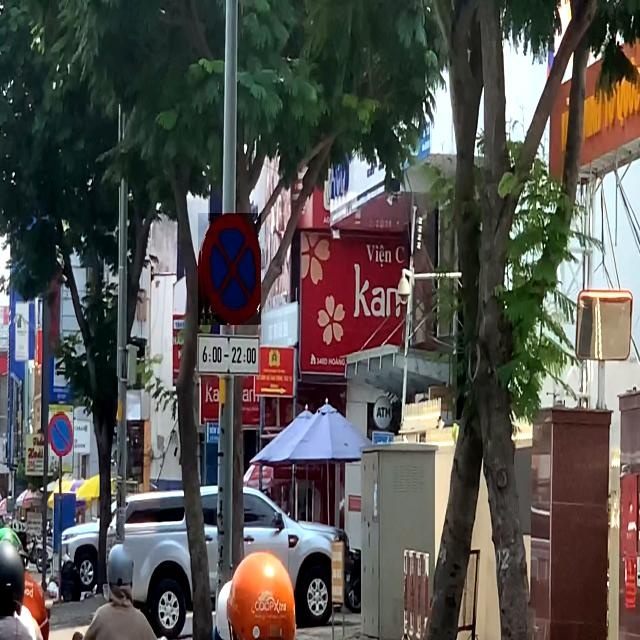bien_cam: (198, 213, 261, 325), (48, 412, 73, 456)
